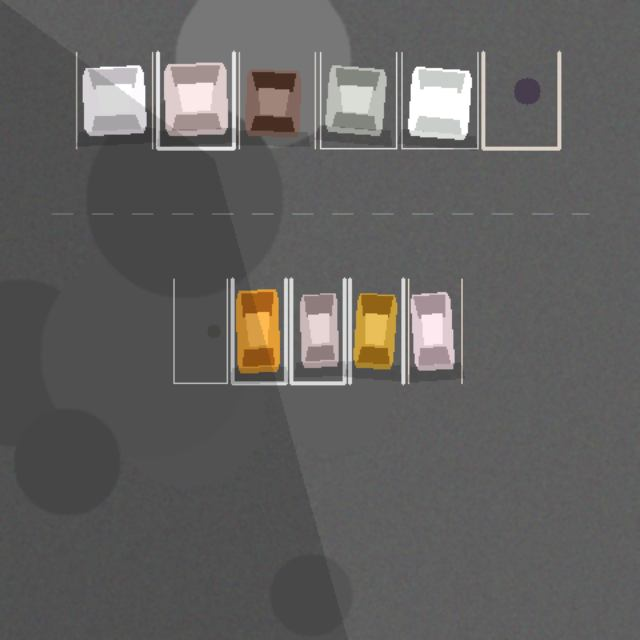space-empty: (483, 52, 559, 148), (173, 279, 227, 383)
space-occupied: (76, 52, 152, 148), (157, 52, 233, 148), (239, 52, 315, 148), (320, 52, 396, 148), (401, 52, 477, 148), (349, 279, 403, 383), (232, 279, 285, 383), (291, 279, 344, 383), (408, 279, 461, 383)
